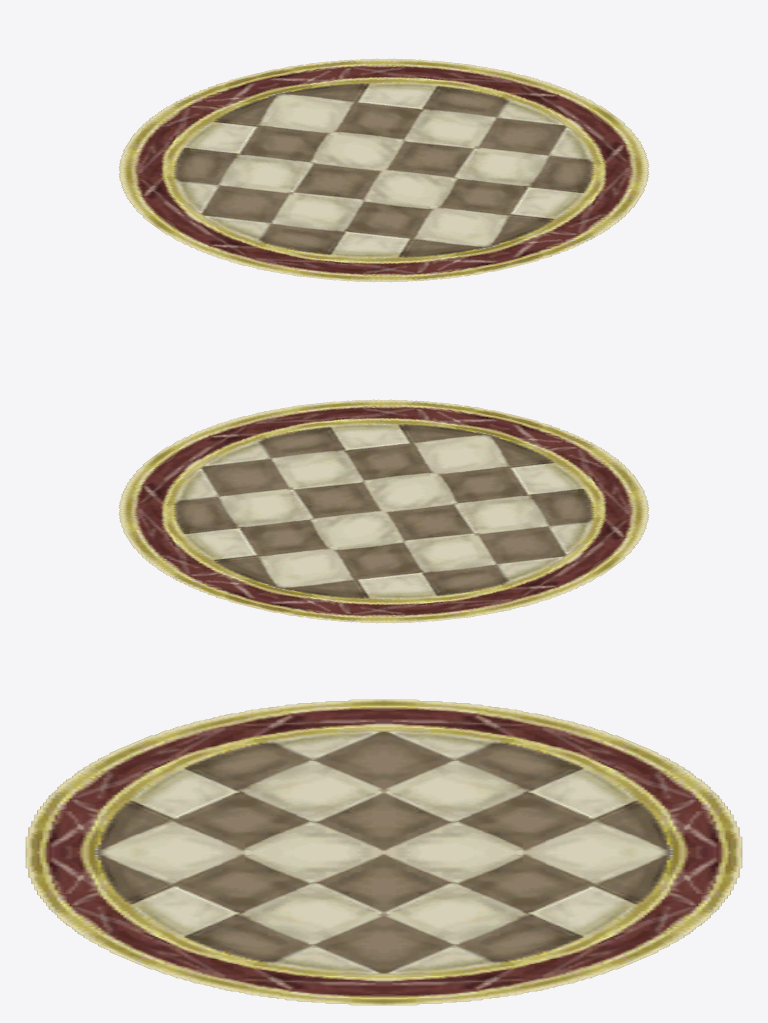
Rendered from yuka.glb.
The picture shows the model from 3 angles, top to bottom: view 1: azimuth 30°, elevation 25°; view 2: azimuth 150°, elevation 25°; view 3: azimuth 270°, elevation 25°; orthographic projection. The views are drawn at different scales.
Visible parts, largest first — view 1: yuka; view 2: yuka; view 3: yuka.
Boxes of the visible parts, x1=… form: yuka: x1=118, y1=58, x2=649, y2=282; yuka: x1=118, y1=399, x2=649, y2=623; yuka: x1=25, y1=699, x2=742, y2=1005.
Size of the model in its own units: 1120 by 0 by 1120.
Materials: 1 (1 with a texture image).
